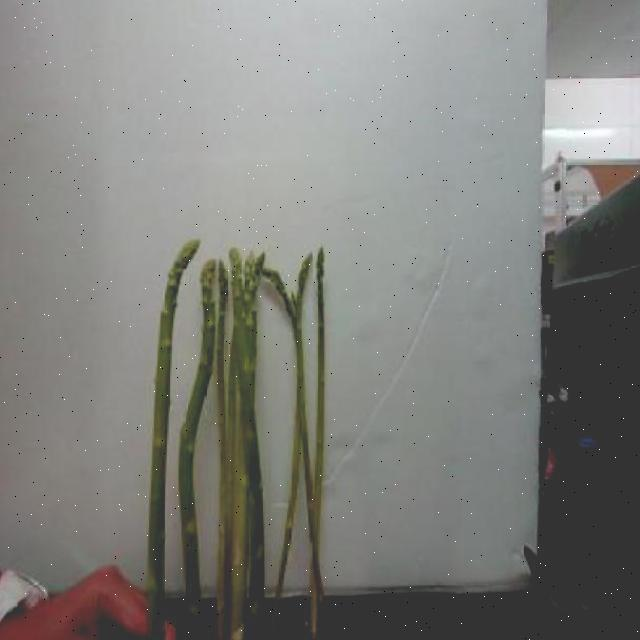aspargus: (145, 241, 198, 640)
